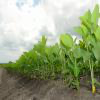Soyabean leaf: (60, 33, 72, 47), (81, 48, 91, 61), (73, 45, 82, 59), (50, 52, 56, 63), (73, 67, 79, 77), (54, 43, 59, 54), (34, 44, 40, 53), (42, 35, 46, 46), (46, 46, 50, 56), (43, 57, 49, 63), (31, 53, 35, 59)
